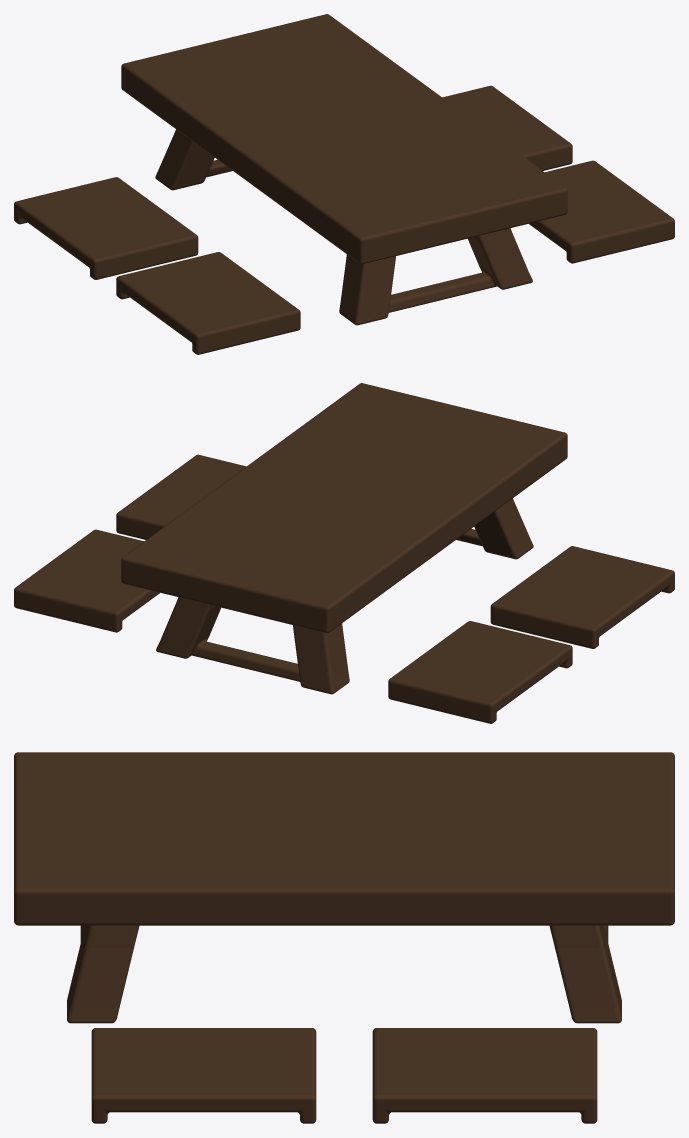
Rendered from Table.fbx.
3 views of the same model, one above another, from view 1: azimuth 30°, elevation 25°; view 2: azimuth 150°, elevation 25°; view 3: azimuth 270°, elevation 25° (orthographic). The views are drawn at different scales.
Visible parts, largest first — view 1: Cube.004; view 2: Cube.004; view 3: Cube.004.
Part boxes in pixels (x1,y1,x2,y2): Cube.004: [14, 14, 674, 354]; Cube.004: [14, 383, 674, 723]; Cube.004: [14, 752, 674, 1123].
Size of the model in its own units: 173 by 36.22 by 150.
